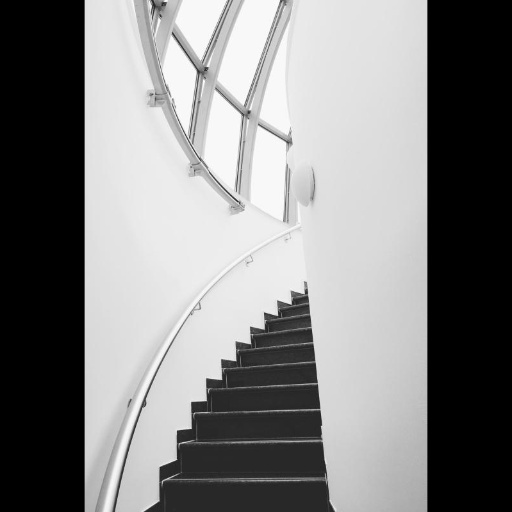Stairs: (146, 292, 331, 512)
